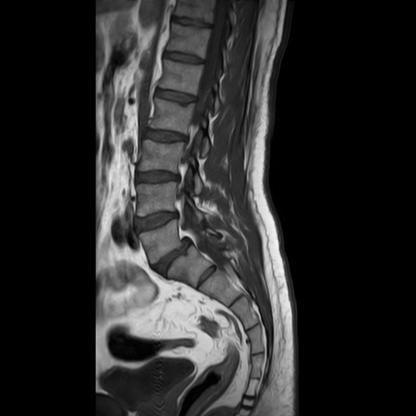Disc Bulgerotation: (150, 243, 198, 270), (133, 206, 182, 232), (137, 168, 179, 190)
